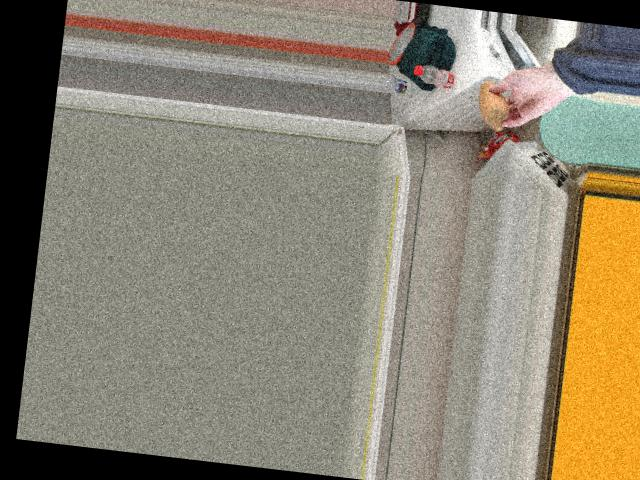sweet_potato: (475, 82, 516, 127)
